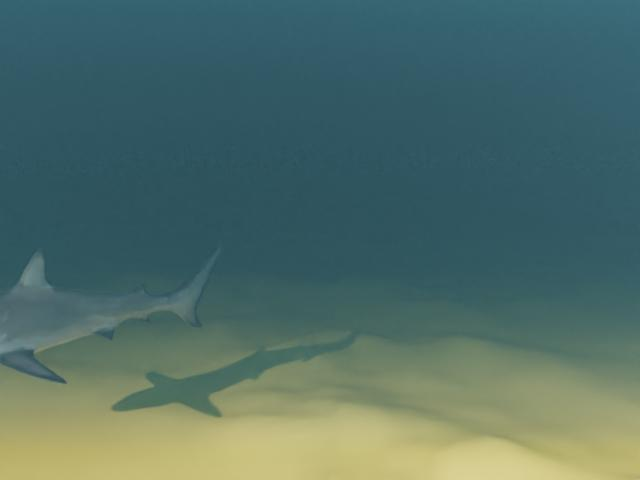Carribean Shark.001: (0, 238, 226, 383)
